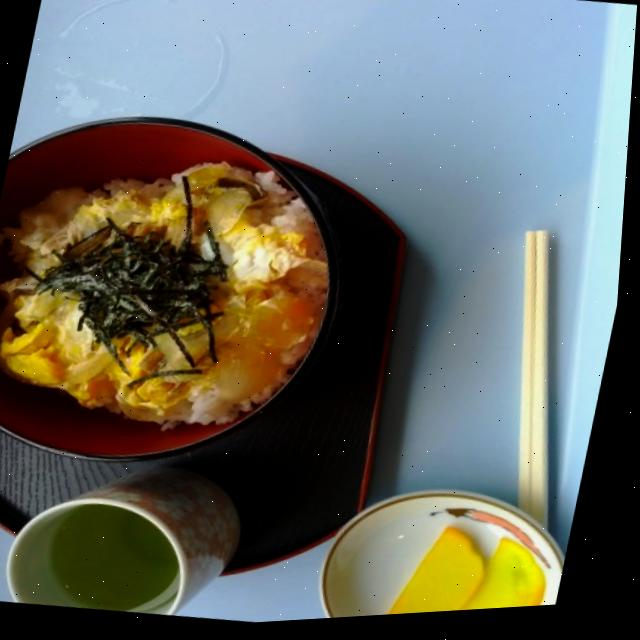米饭主食: (0, 84, 385, 503)
